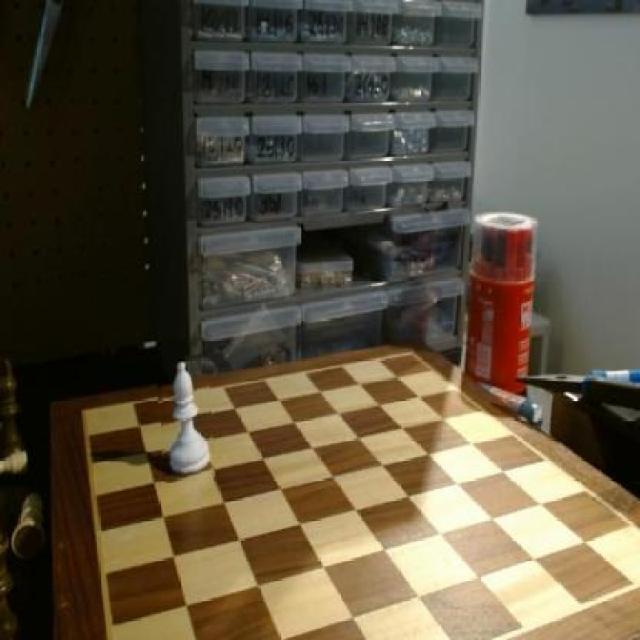black-rook: (160, 354, 215, 481)
